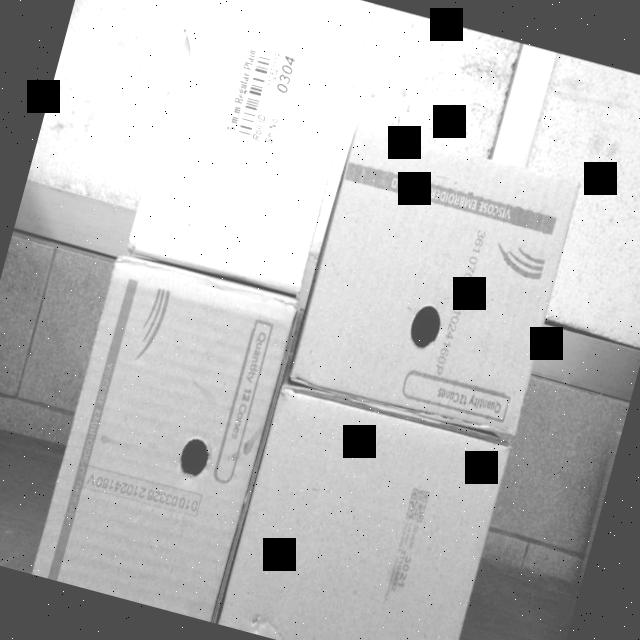box: (35, 255, 302, 622), (289, 127, 576, 436), (122, 0, 374, 303), (219, 388, 513, 640)
